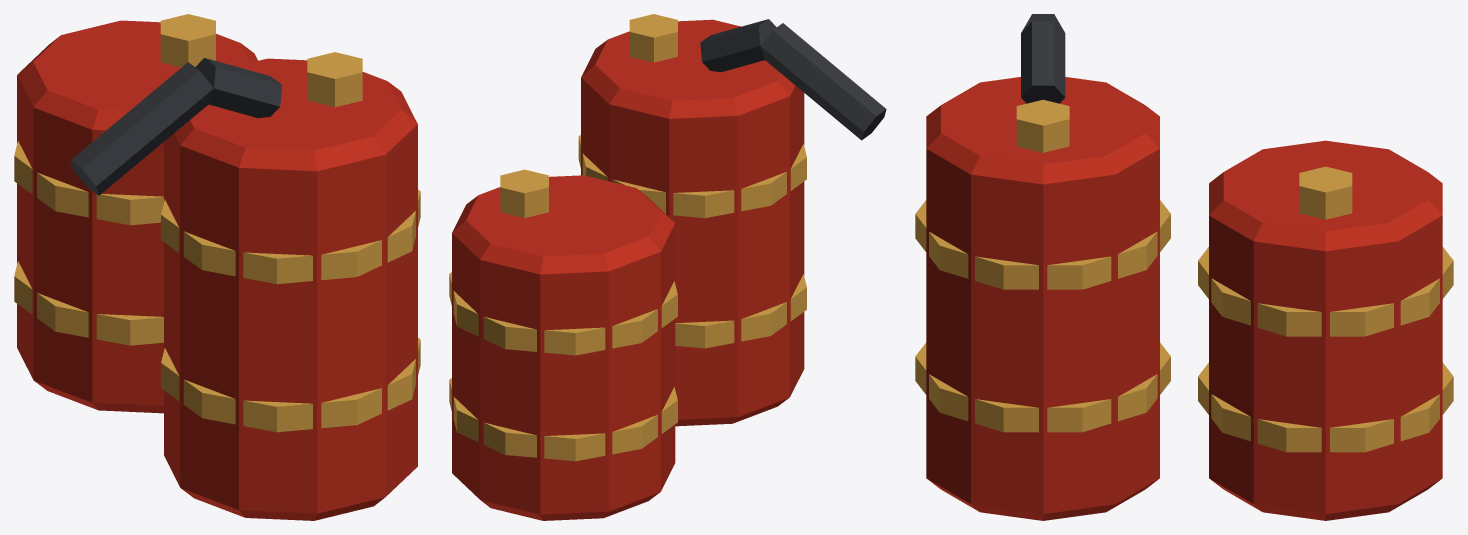
Rendered from FlameKit4.obj.
3 renders of one model, left to right at view 1: azimuth 30°, elevation 25°; view 2: azimuth 150°, elevation 25°; view 3: azimuth 270°, elevation 25°, orthographic. The views are drawn at different scales.
Visible parts, largest first — view 1: FlameKit4; view 2: FlameKit4; view 3: FlameKit4.
Boxes of the visible parts, x1,y1,x2,y2 form: FlameKit4: [14, 14, 420, 520]; FlameKit4: [449, 14, 886, 520]; FlameKit4: [915, 14, 1453, 520].
Size of the model in its own units: 0.2942 by 0.3739 by 0.438.
